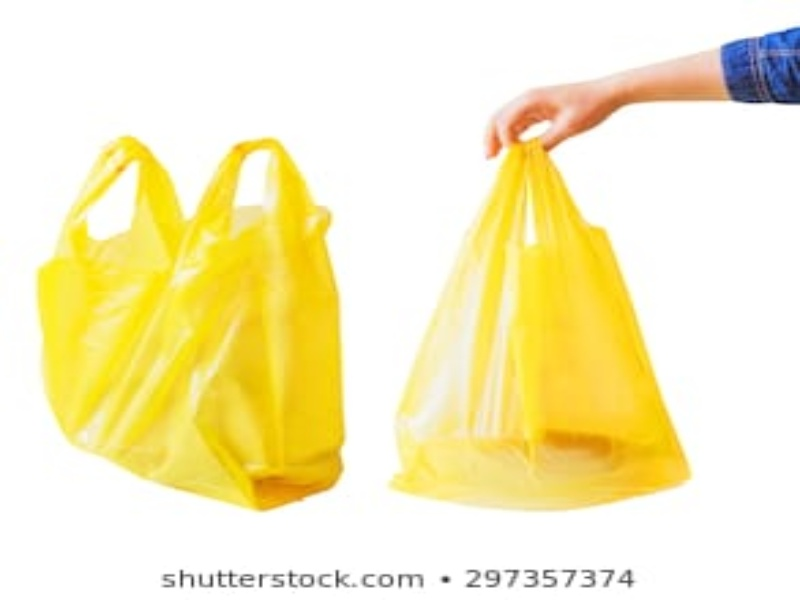plastic-bag: (37, 133, 351, 512), (394, 138, 691, 514)
